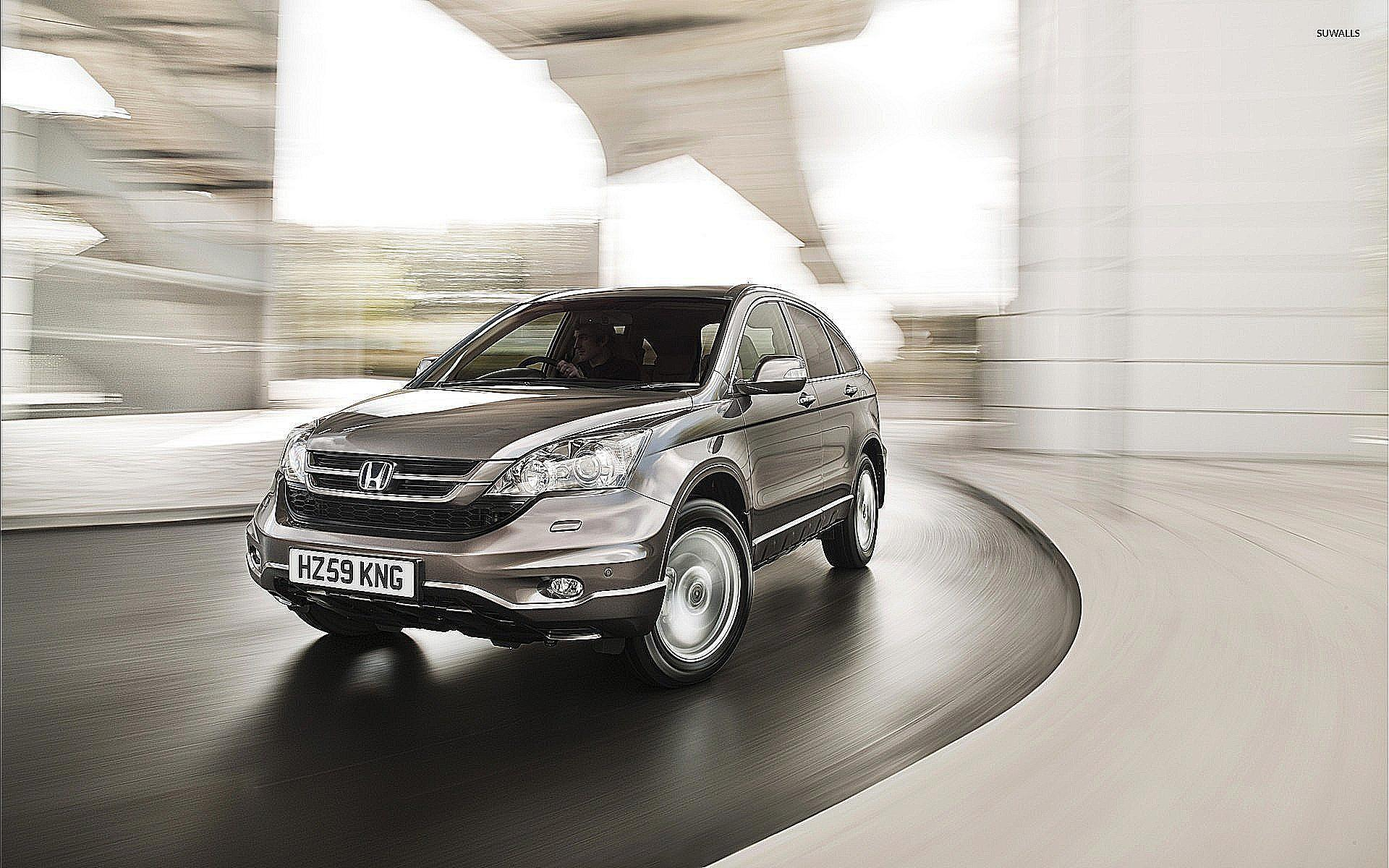Car hood: (305, 380, 695, 466)
Fender - -F-L-: (622, 369, 759, 575)
Fender - -R-L-: (847, 365, 892, 457)
Front bumper: (240, 487, 675, 648)
Headlight - -L-: (481, 414, 656, 511)
Headlight - -R-: (271, 411, 327, 488)
Passenger-s door - -F-L-: (732, 286, 828, 535)
Passenger-s door - -R-L-: (787, 289, 867, 515)
Rear bumper: (875, 444, 901, 520)
Side bumper - -L-: (745, 485, 862, 574)
Side mirror - -L-: (743, 344, 813, 406)
Side mirror - -R-: (406, 351, 451, 390)
